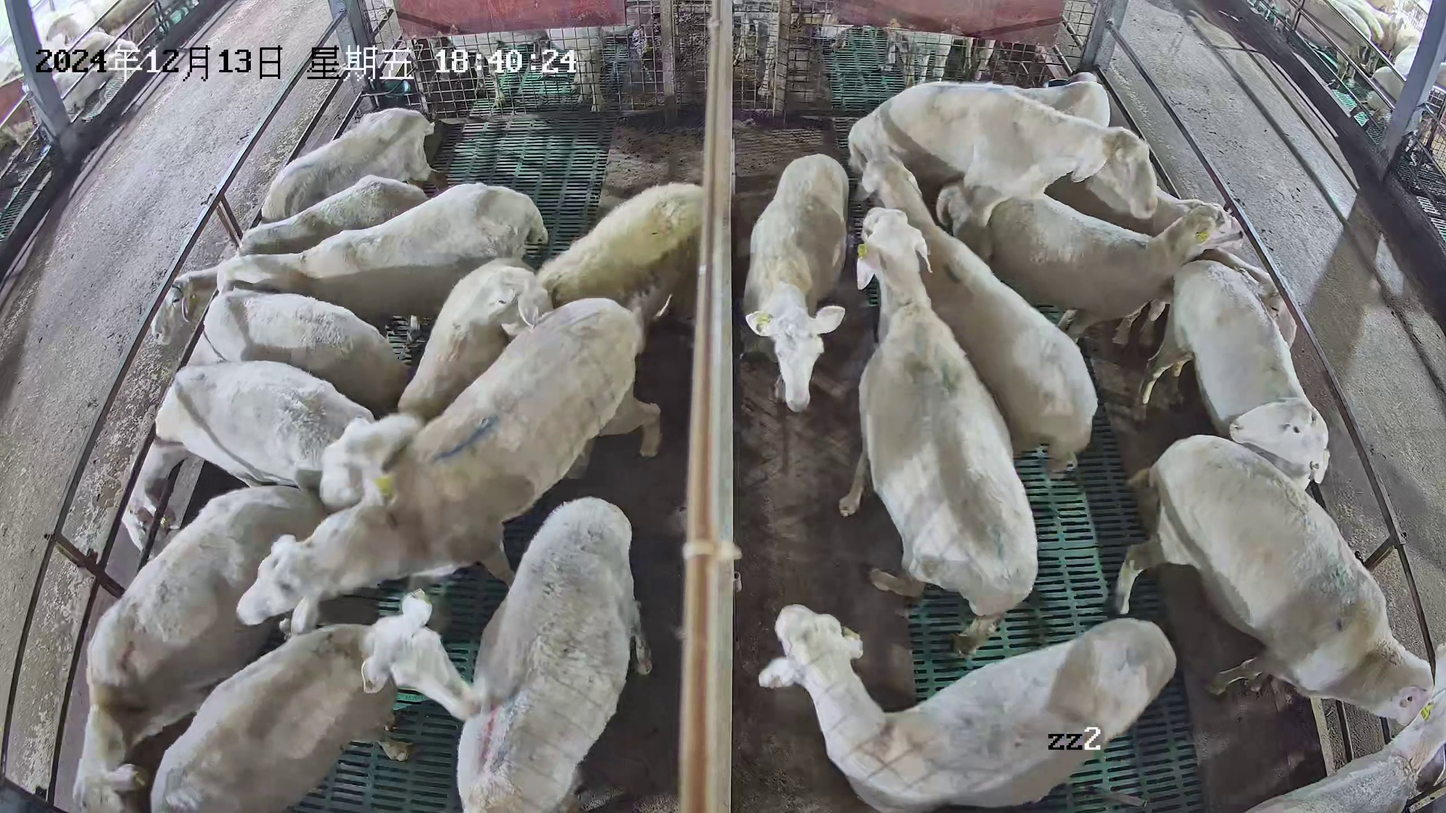Smounting: (847, 81, 1247, 350)
mounted: (934, 179, 1244, 347)
